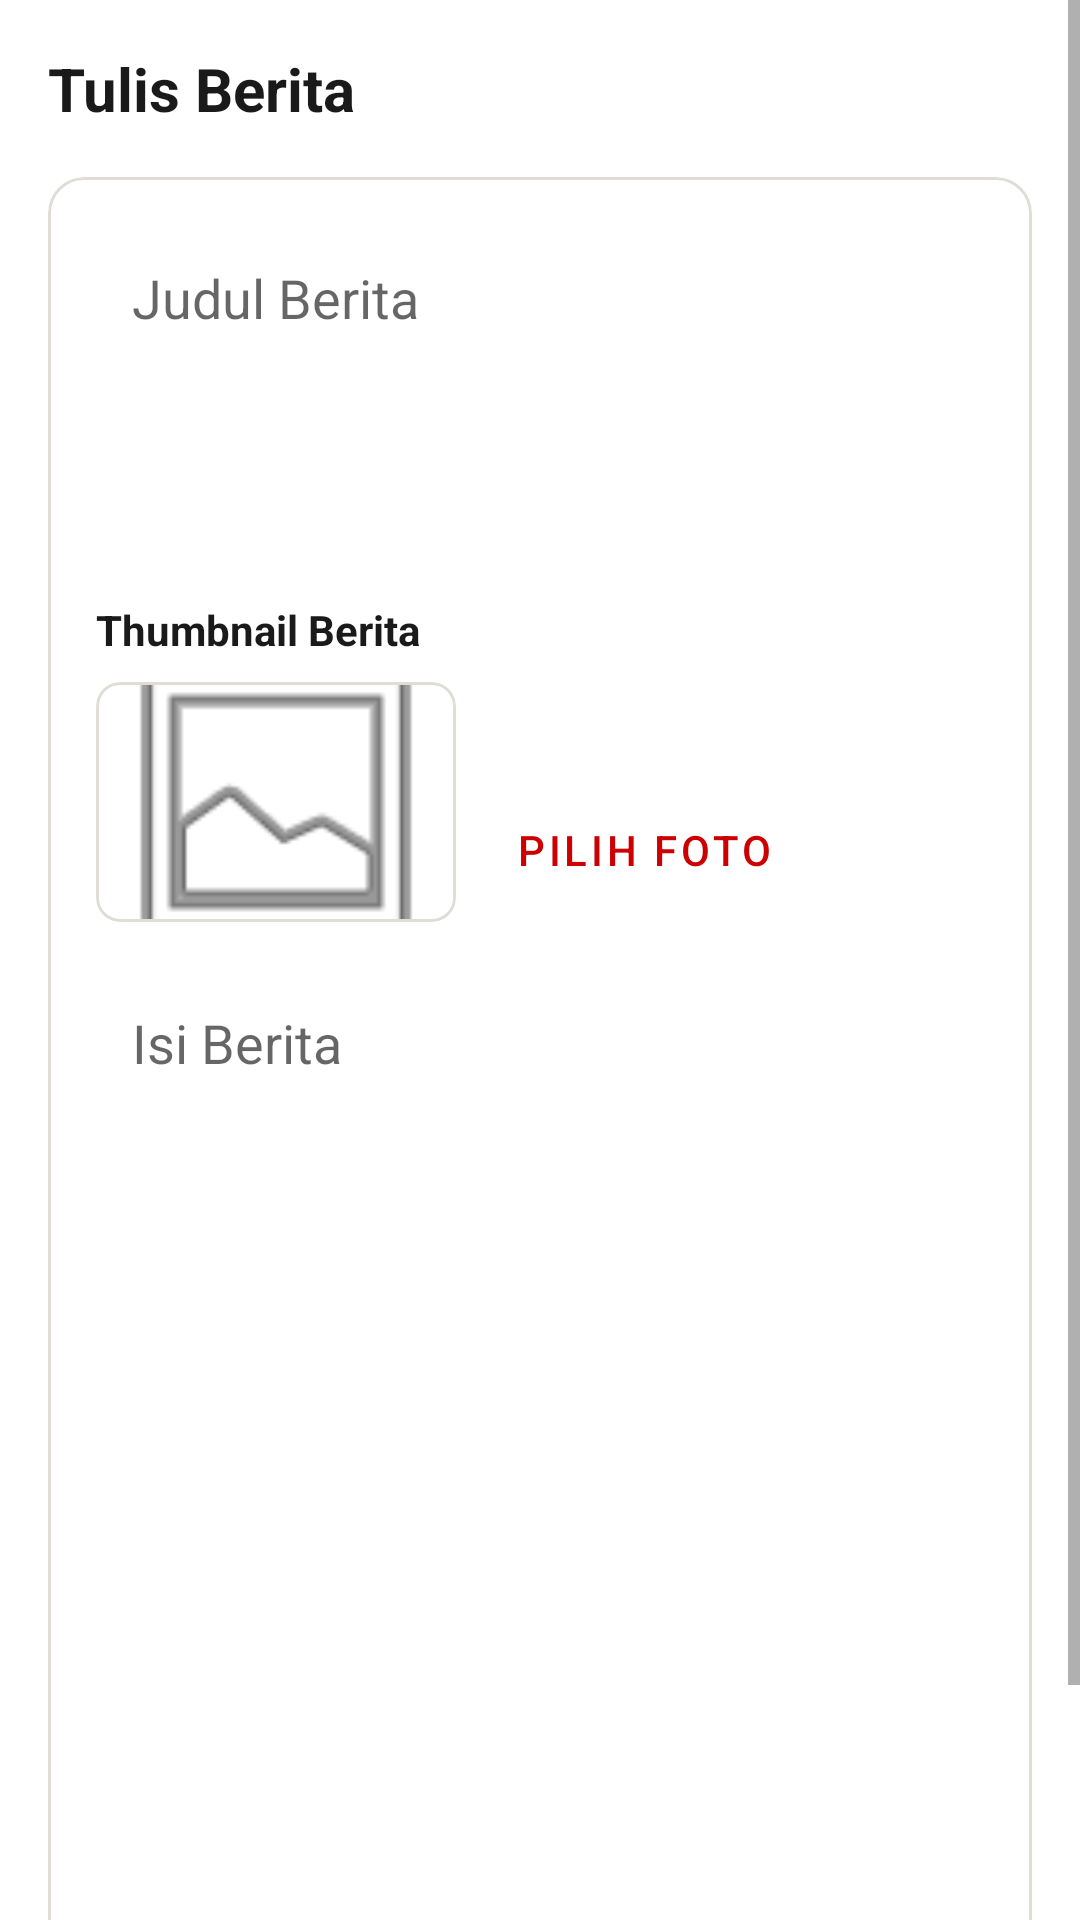

Named icons in this screenshot (1080 x 1920) and their bounding boxes, (x1, y1, x2, y2):
gallery: (96, 682, 456, 922)
